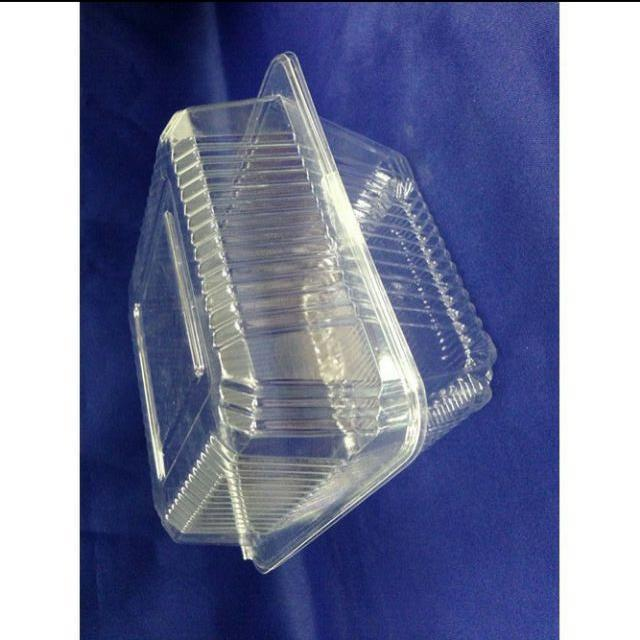PET Bottle: (94, 44, 522, 586)
